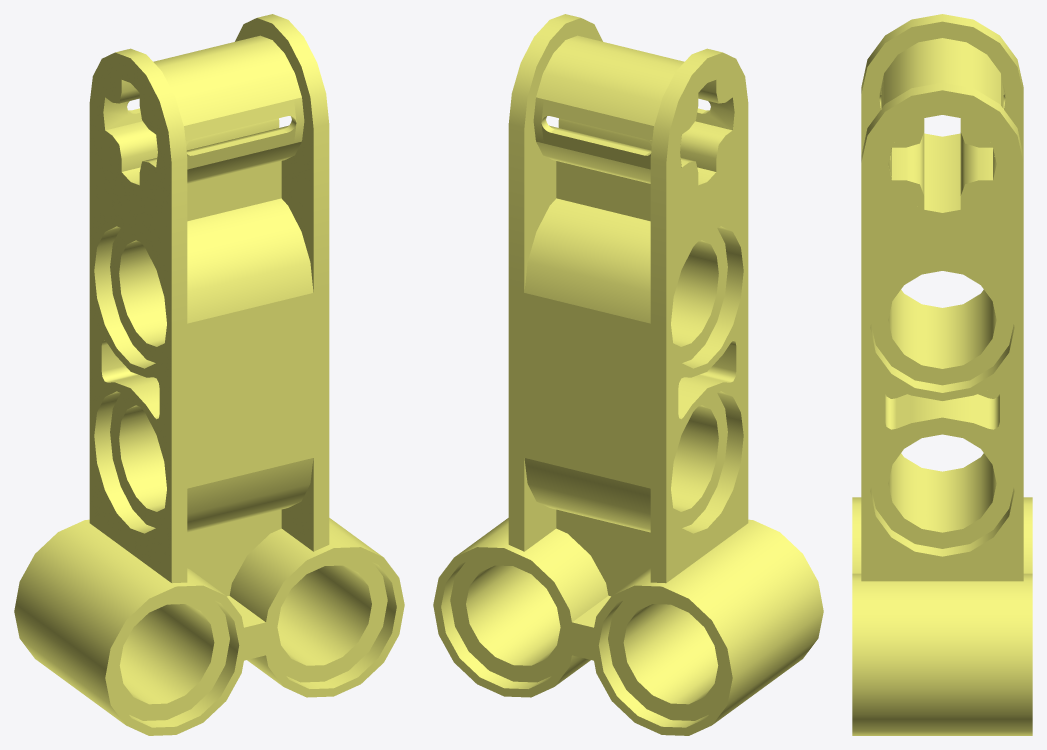
3 renders of one model, left to right at view 1: azimuth 30°, elevation 25°; view 2: azimuth 150°, elevation 25°; view 3: azimuth 270°, elevation 25°, orthographic.
Visible parts, largest first — view 1: 98989.dat; view 2: 98989.dat; view 3: 98989.dat.
Part boxes in pixels (<box>): 98989.dat: <box>14,14,404,735</box>; 98989.dat: <box>433,14,823,735</box>; 98989.dat: <box>852,14,1032,735</box>.
Bounding box in the file's own units: 0.0152 × 0.0312 × 0.008.
